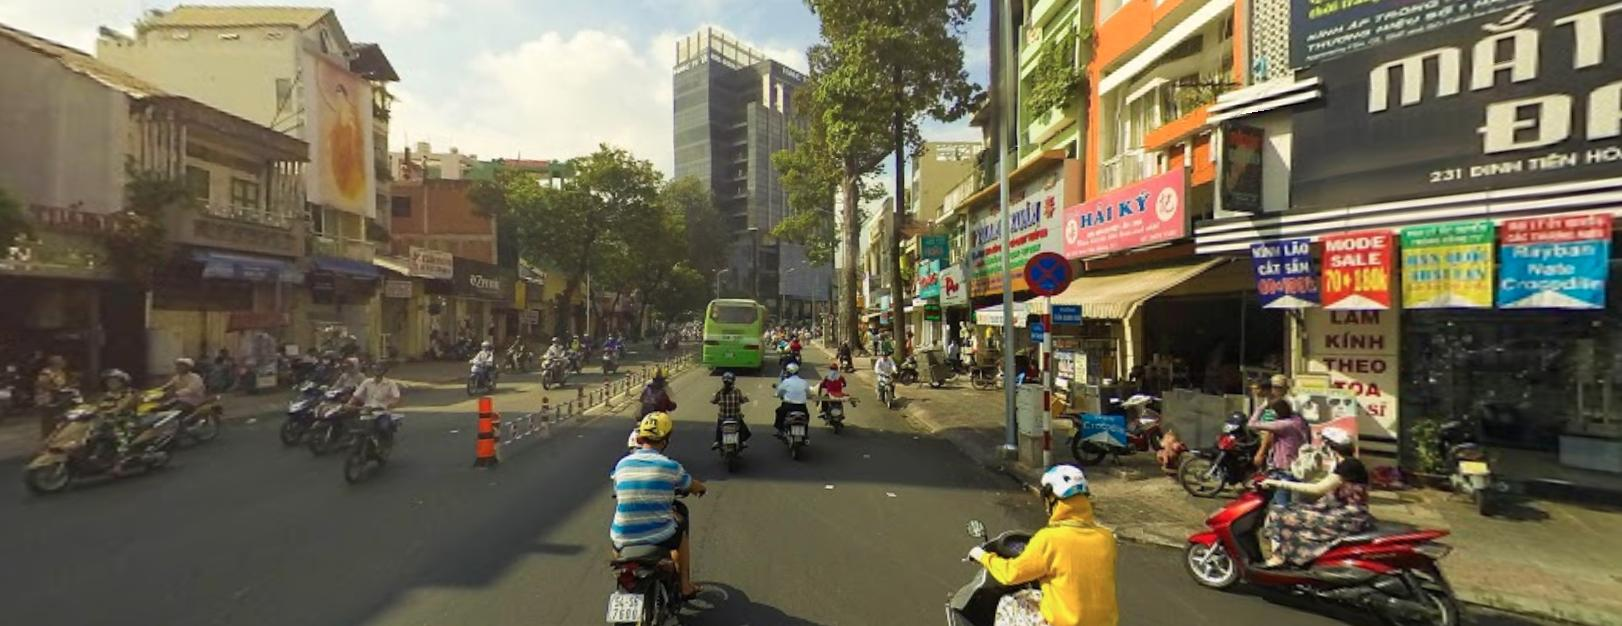Cam dung va do: (1024, 250, 1071, 295)
Cam re: (827, 311, 834, 319)
